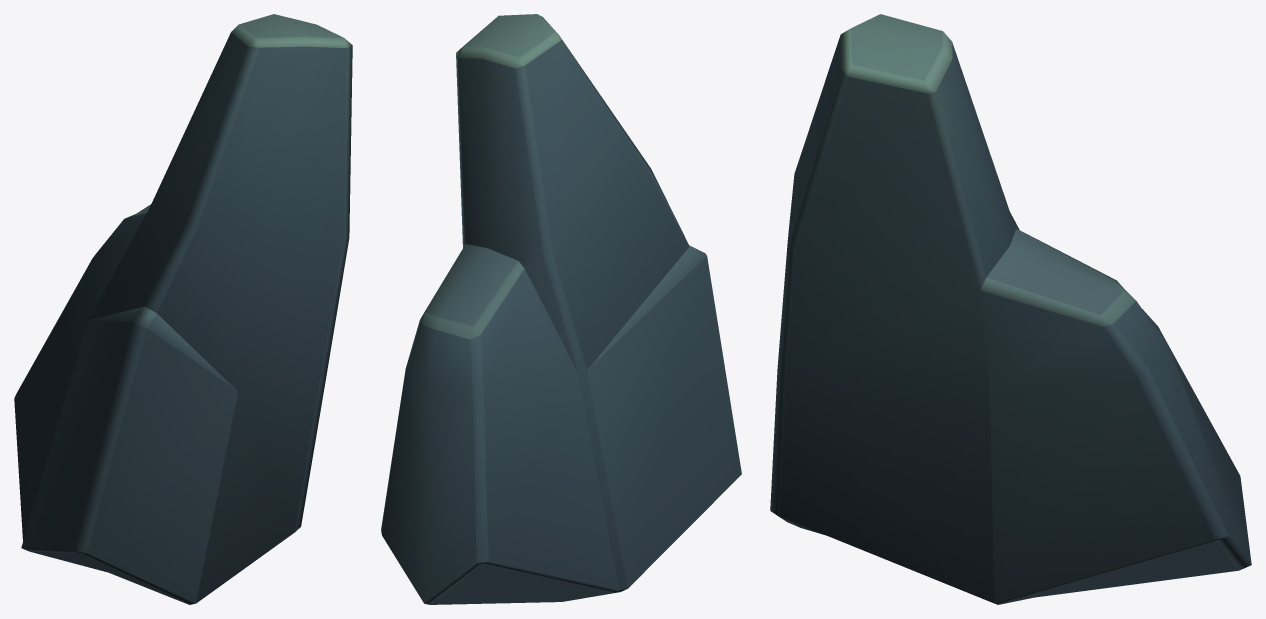
File: rock_27.fbx
3 renders of one model, left to right at view 1: azimuth 30°, elevation 25°; view 2: azimuth 150°, elevation 25°; view 3: azimuth 270°, elevation 25°, orthographic. The views are drawn at different scales.
Parts seen in each view (by area): view 1: rock_27; view 2: rock_27; view 3: rock_27.
Boxes of the visible parts, x1,y1,x2,y2 form: rock_27: (14, 14, 352, 604); rock_27: (381, 14, 741, 604); rock_27: (770, 14, 1251, 604).
Bounding box in the file's own units: 375 × 715 × 496.
